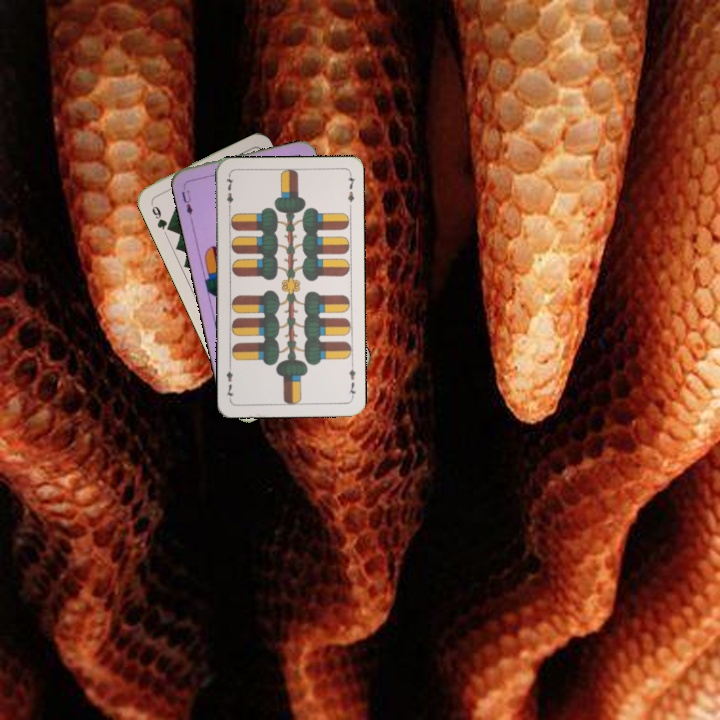E7: (222, 172, 236, 213), (345, 360, 359, 400)
EU: (178, 181, 195, 218)
G9: (146, 198, 174, 234)
